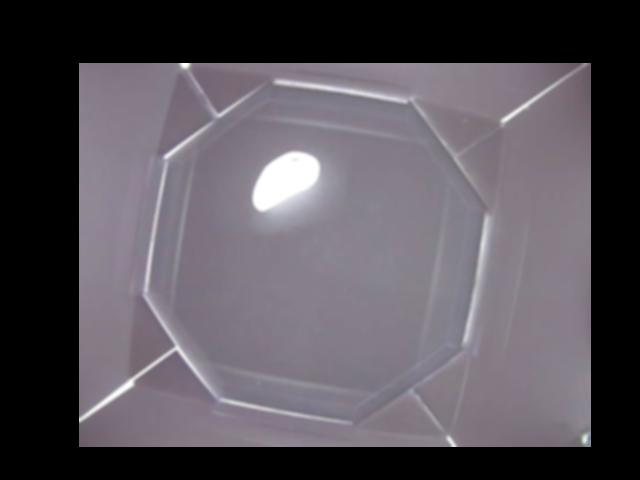Pebble: (250, 150, 319, 210)
